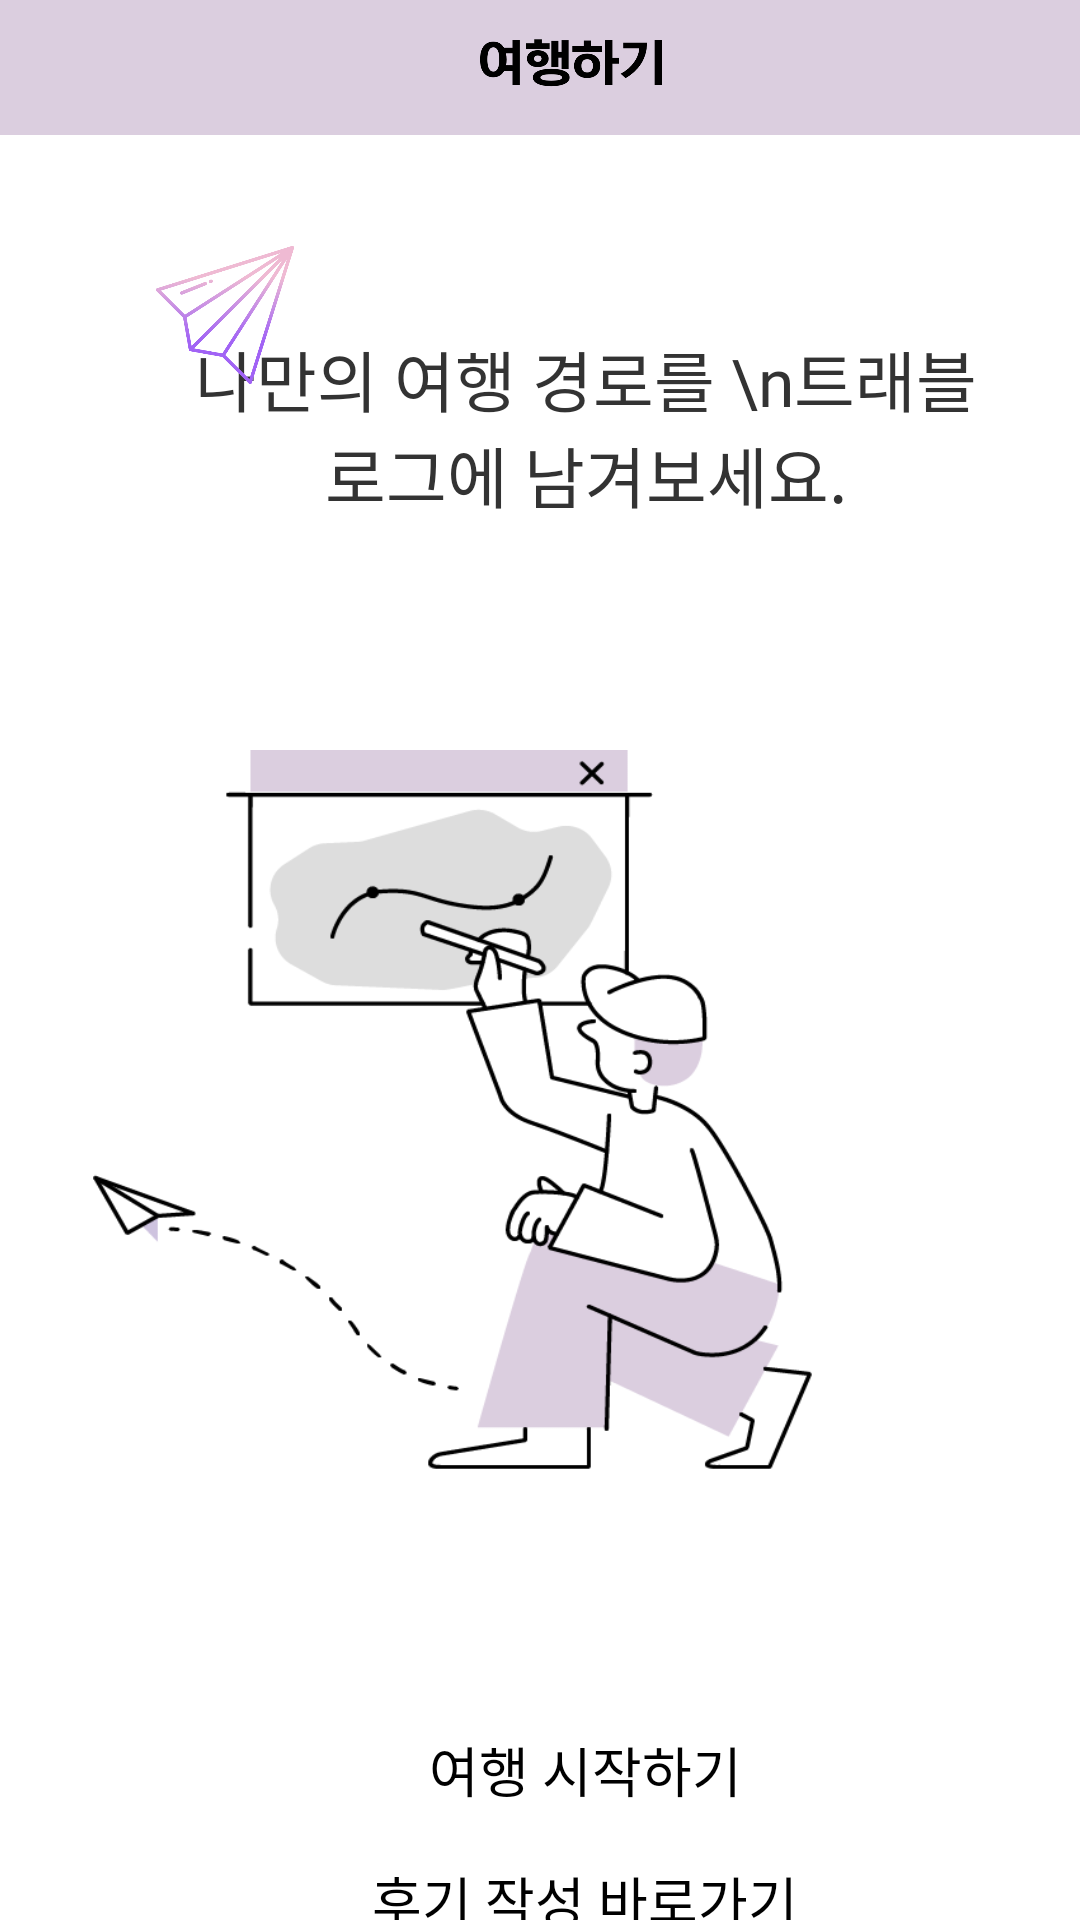

Screen size 1080 x 1920. Icon name, then its box in pixels as (x1, y1, x2, y2):
plane ani: (156, 246, 294, 390)
